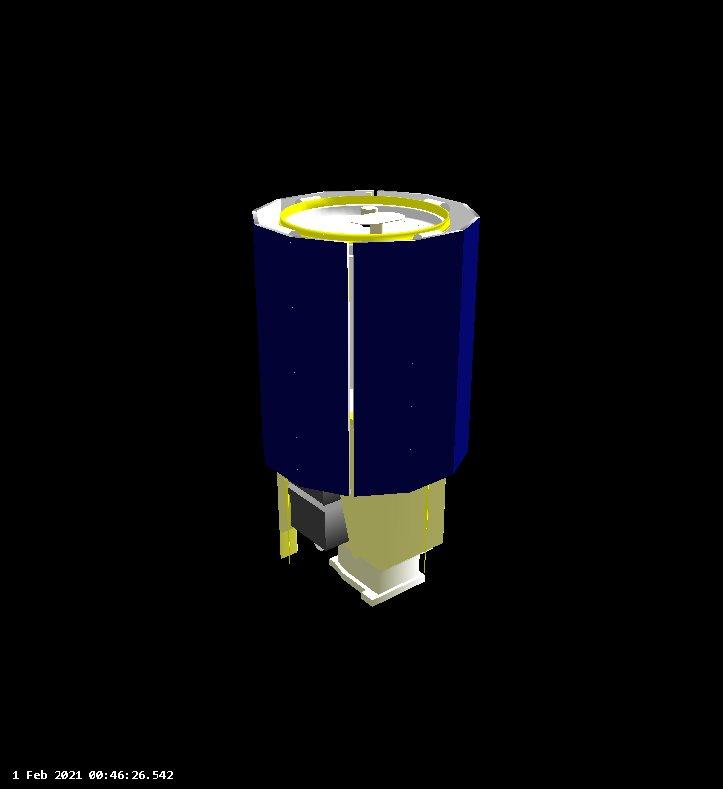body: (246, 184, 486, 609)
